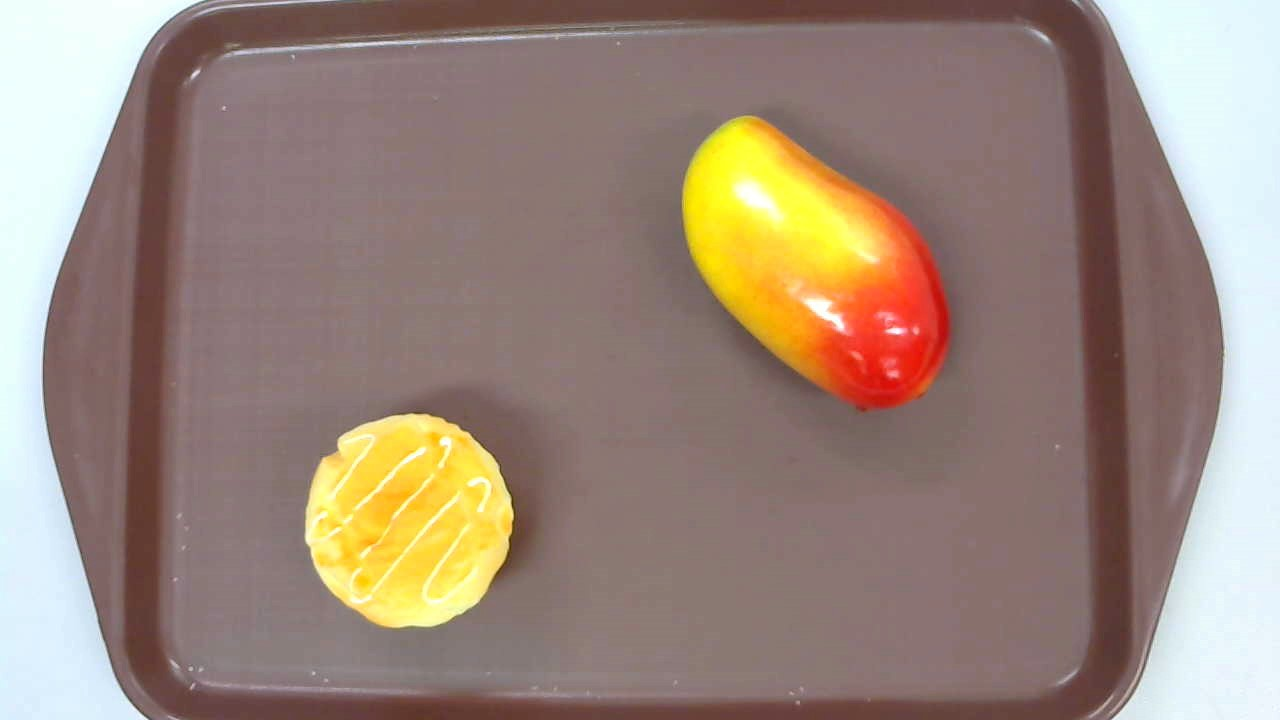cupcake: (304, 413, 514, 627)
red mango: (682, 116, 952, 413)
